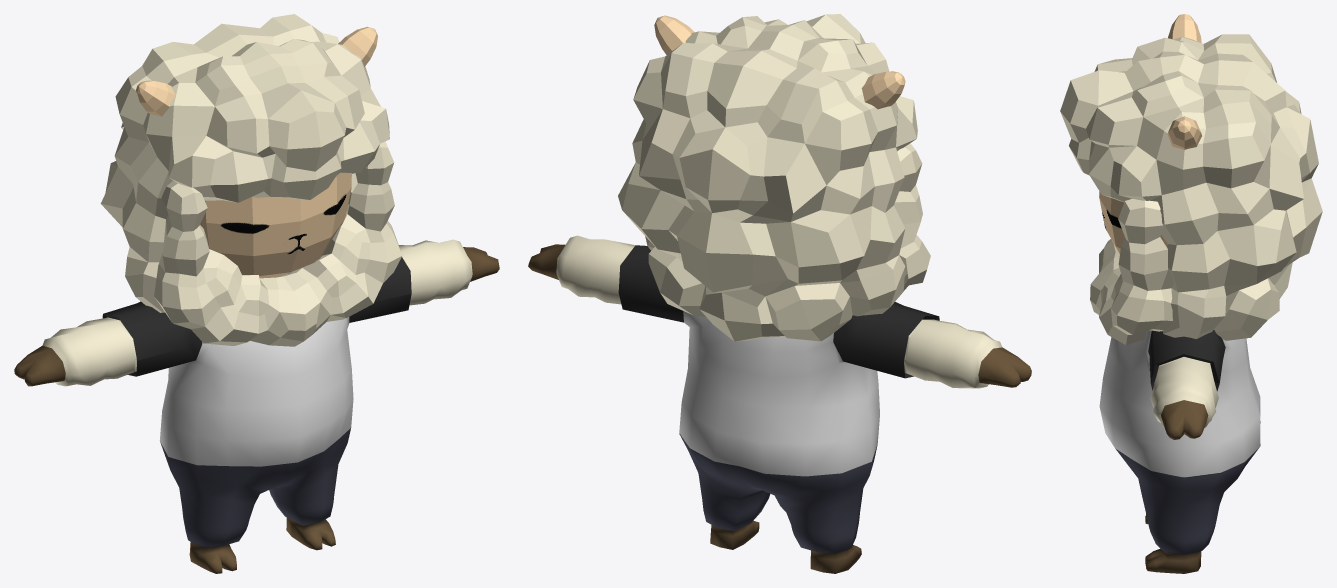
Rendered from Cha_Aye.fbx.
3 renders of one model, left to right at view 1: azimuth 30°, elevation 25°; view 2: azimuth 150°, elevation 25°; view 3: azimuth 270°, elevation 25°, orthographic. The views are drawn at different scales.
Visible parts, largest first — view 1: body, fur, beard, head, ear_r, ear_l; view 2: fur, body, beard, ear_r, ear_l; view 3: fur, body, beard, head, ear_l, ear_r.
Boxes of the visible parts, x1,y1,x2,y2 form: body: (14, 239, 499, 573); fur: (100, 14, 389, 312); beard: (154, 141, 402, 346); head: (200, 173, 351, 278); ear_r: (136, 80, 175, 116); ear_l: (338, 26, 377, 66); fur: (618, 14, 917, 341); body: (528, 235, 1031, 573); beard: (894, 143, 930, 290); ear_r: (861, 71, 905, 109); ear_l: (654, 15, 694, 54); fur: (1060, 34, 1322, 340); body: (1099, 330, 1260, 573); beard: (1090, 198, 1173, 344); head: (1099, 191, 1167, 254); ear_l: (1167, 116, 1201, 149); ear_r: (1168, 14, 1201, 42).
Size of the model in its own units: 11.41 by 11.57 by 5.64.
